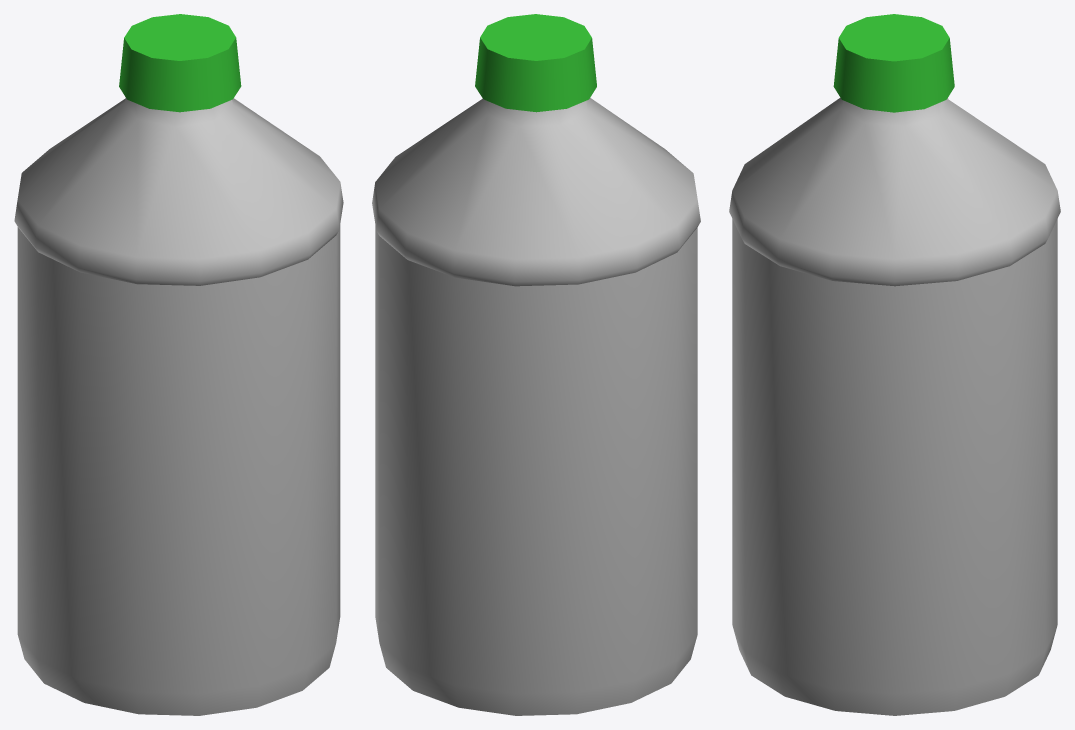
Rendered from SM_Bottle_03.fbx.
The picture shows the model from 3 angles, left to right: view 1: azimuth 30°, elevation 25°; view 2: azimuth 150°, elevation 25°; view 3: azimuth 270°, elevation 25°; orthographic projection.
Visible parts, largest first — view 1: SM_Bottle_03; view 2: SM_Bottle_03; view 3: SM_Bottle_03.
Part boxes in pixels (x1,y1,x2,y2): SM_Bottle_03: (14, 14, 343, 715); SM_Bottle_03: (372, 14, 700, 715); SM_Bottle_03: (729, 14, 1060, 715).
Bounding box in the file's own units: 17.56 × 35.8 × 17.56.
